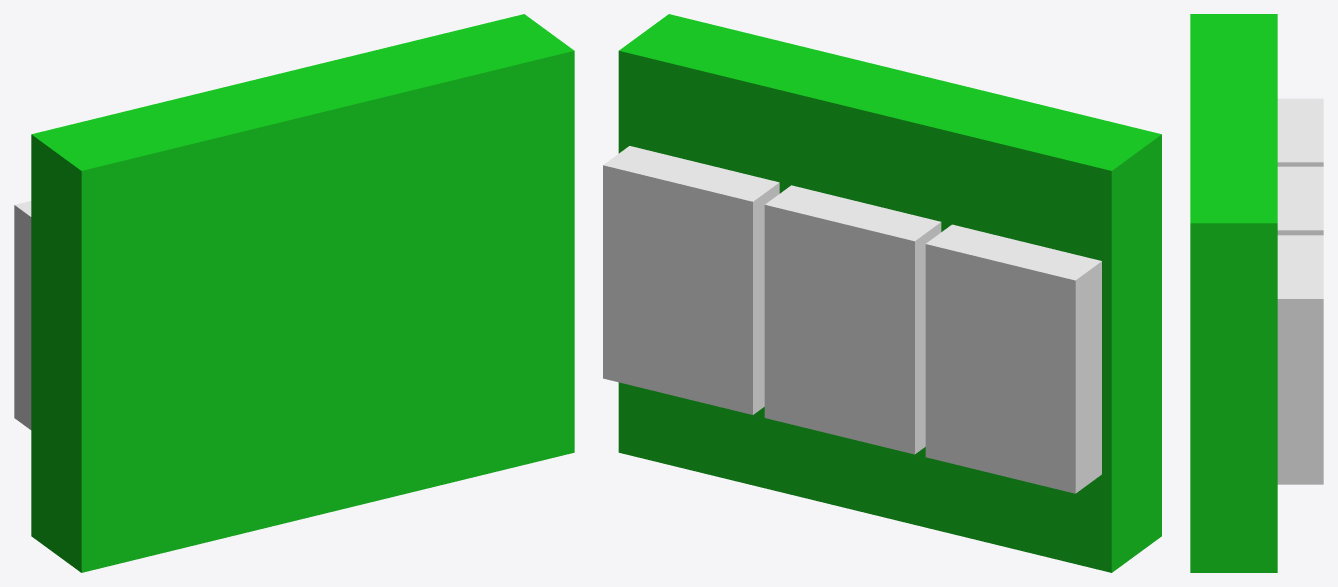
The model's file is Slots.fbx.
3 renders of one model, left to right at view 1: azimuth 30°, elevation 25°; view 2: azimuth 150°, elevation 25°; view 3: azimuth 270°, elevation 25°, orthographic. The views are drawn at different scales.
Parts seen in each view (by area): view 1: Slots, Cylindar__2_; view 2: Slots, Cylindar__2_, Cylindar__1_, Cylindar__3_; view 3: Slots, Cylindar__1_, Cylindar__3_, Cylindar__2_.
Part boxes in pixels (<box>): Slots: <box>31,14,574,572</box>; Cylindar__2_: <box>14,201,31,429</box>; Slots: <box>618,14,1161,572</box>; Cylindar__2_: <box>925,224,1101,493</box>; Cylindar__1_: <box>603,146,779,414</box>; Cylindar__3_: <box>764,185,941,454</box>; Slots: <box>1190,14,1277,572</box>; Cylindar__1_: <box>1277,235,1323,484</box>; Cylindar__3_: <box>1277,166,1323,235</box>; Cylindar__2_: <box>1277,98,1323,166</box>.
Size of the model in its own units: 568 by 442 by 153.
